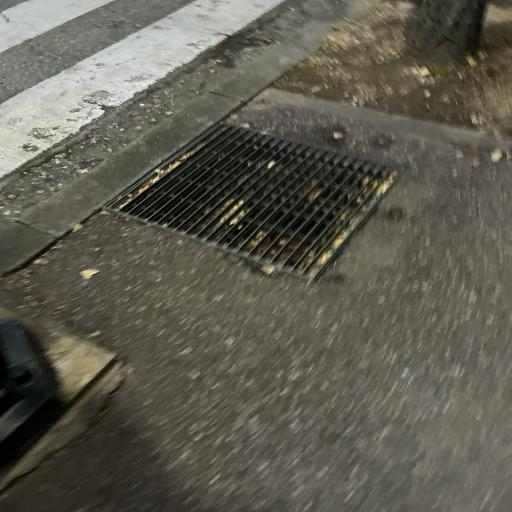drain: (105, 123, 403, 281)
